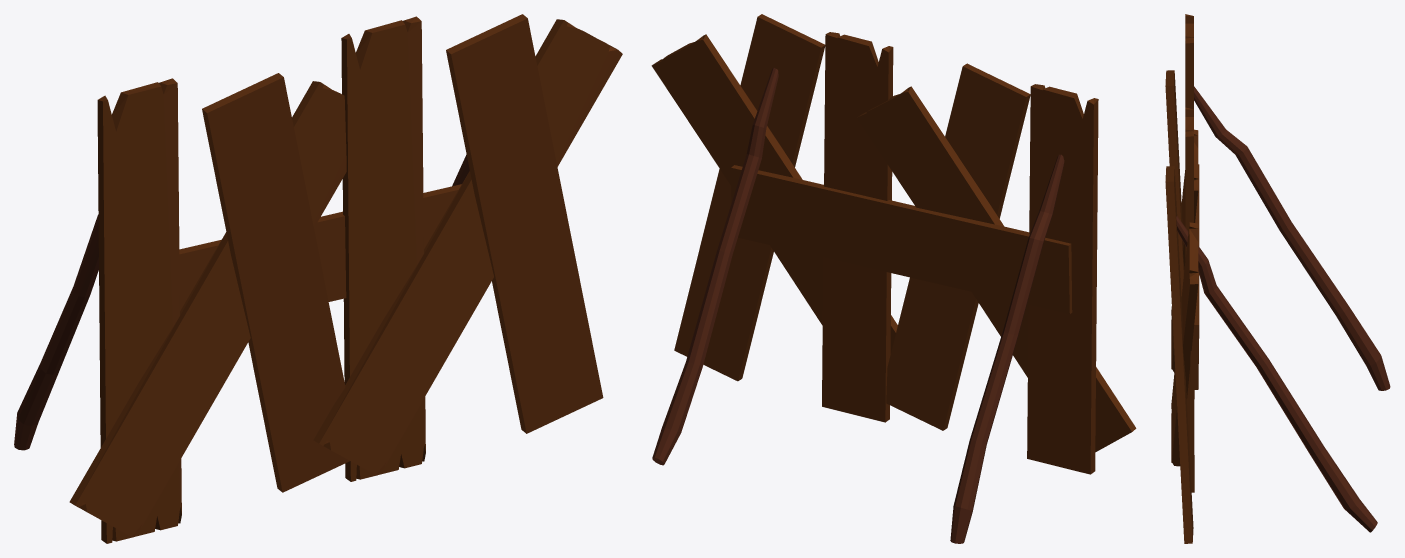
File: fence.FBX
3 renders of one model, left to right at view 1: azimuth 30°, elevation 25°; view 2: azimuth 150°, elevation 25°; view 3: azimuth 270°, elevation 25°, orthographic. The views are drawn at different scales.
Parts seen in each view (by area): view 1: Plank_Fence_01_mesh; view 2: Plank_Fence_01_mesh; view 3: Plank_Fence_01_mesh.
Boxes of the visible parts, x1,y1,x2,y2 form: Plank_Fence_01_mesh: [14, 14, 622, 543]; Plank_Fence_01_mesh: [651, 14, 1136, 543]; Plank_Fence_01_mesh: [1165, 14, 1390, 543].
Bounding box in the file's own units: 174 × 134 × 75.5.
